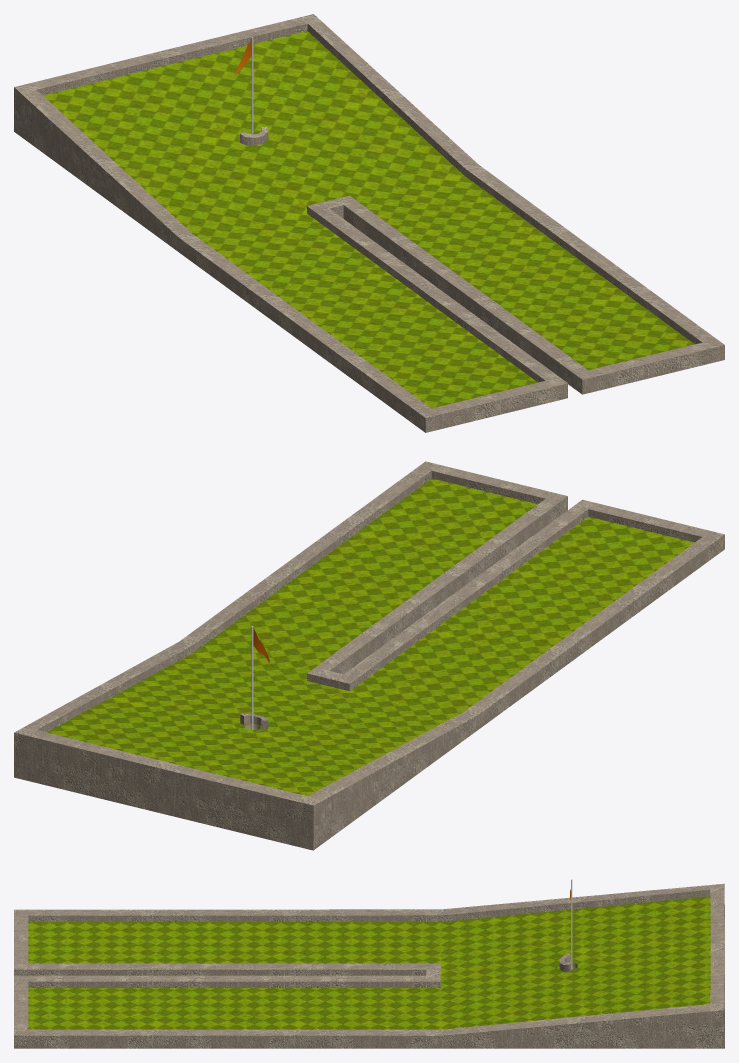
File: course4_hole13.fbx
3 renders of one model, top to bottom at view 1: azimuth 30°, elevation 25°; view 2: azimuth 150°, elevation 25°; view 3: azimuth 270°, elevation 25°, orthographic. The views are drawn at different scales.
Parts seen in each view (by area): view 1: course4_hole13_ground, course4_hole13_walls; view 2: course4_hole13_ground, course4_hole13_walls; view 3: course4_hole13_ground, course4_hole13_walls.
Part boxes in pixels (bbox=[...]): course4_hole13_ground: bbox=[43, 31, 694, 408]; course4_hole13_walls: bbox=[14, 14, 724, 432]; course4_hole13_ground: bbox=[46, 478, 694, 796]; course4_hole13_walls: bbox=[14, 461, 724, 850]; course4_hole13_ground: bbox=[28, 896, 710, 1029]; course4_hole13_walls: bbox=[14, 883, 724, 1048].
Size of the model in its own units: 210 by 82.17 by 500.
